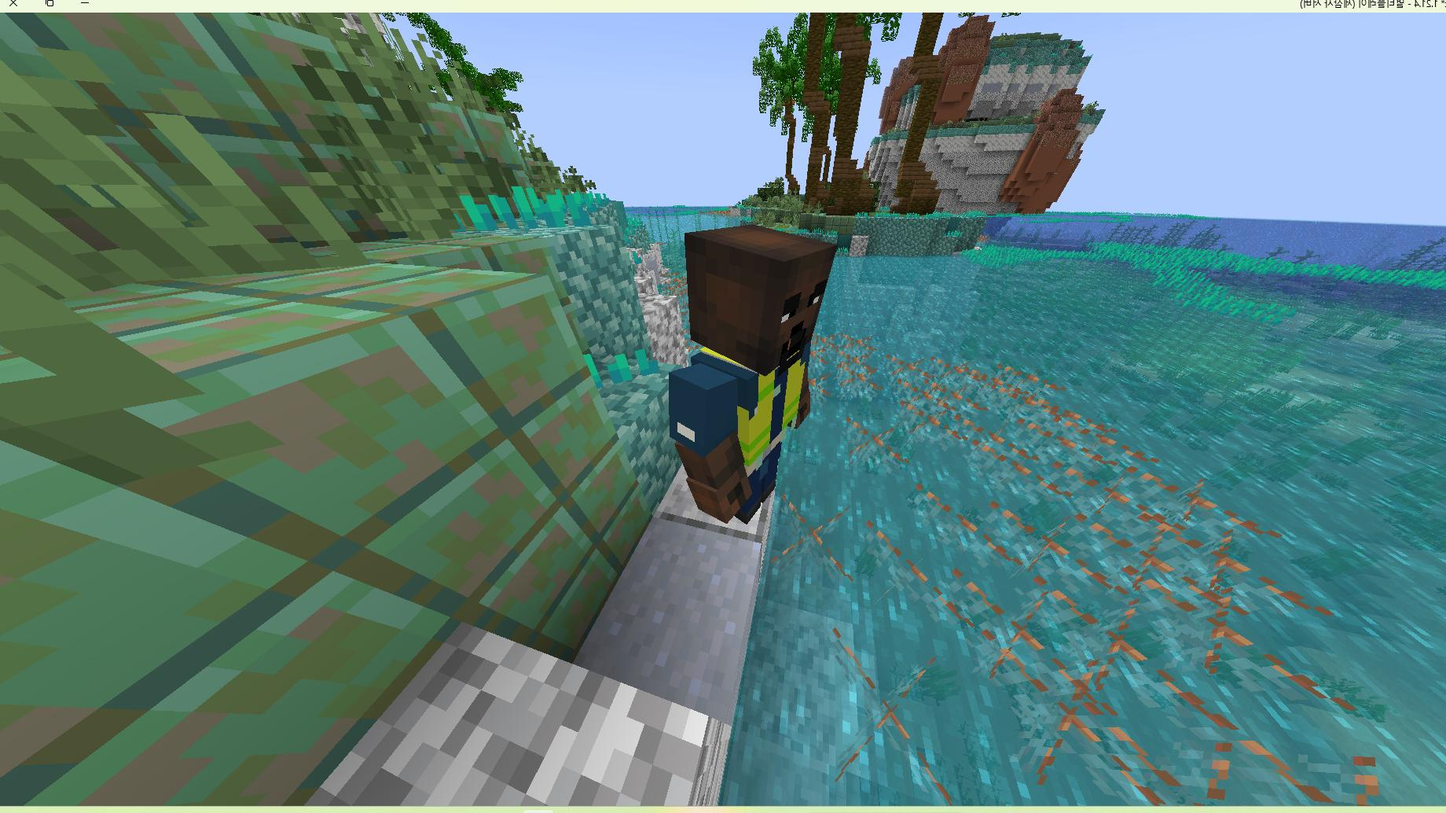Guardian: (670, 224, 835, 523)
